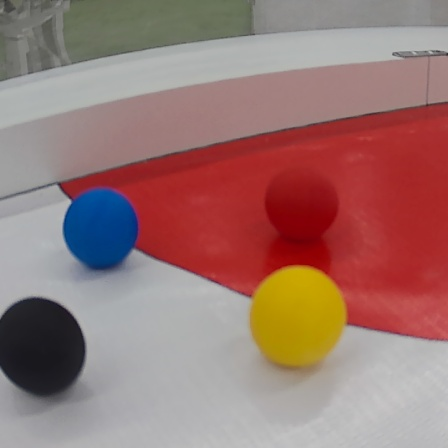black: (1, 295, 93, 395)
blue: (64, 188, 142, 271)
red: (268, 170, 338, 241)
red_base: (59, 99, 448, 346)
yellow: (249, 265, 349, 370)
